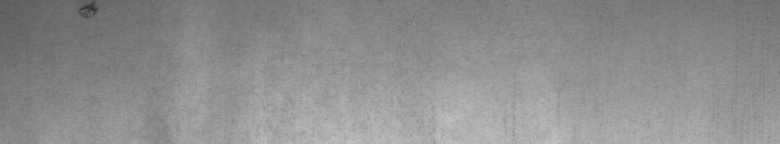fi: (78, 4, 103, 24)
